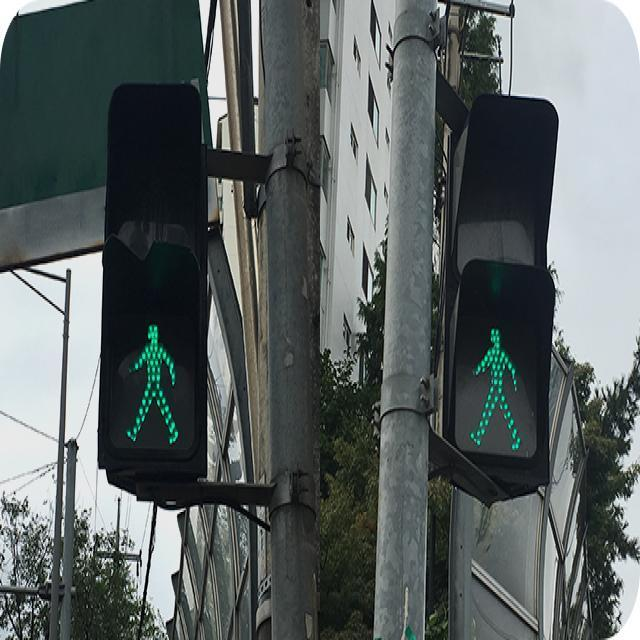green_light: (106, 322, 196, 452), (459, 323, 537, 451)
